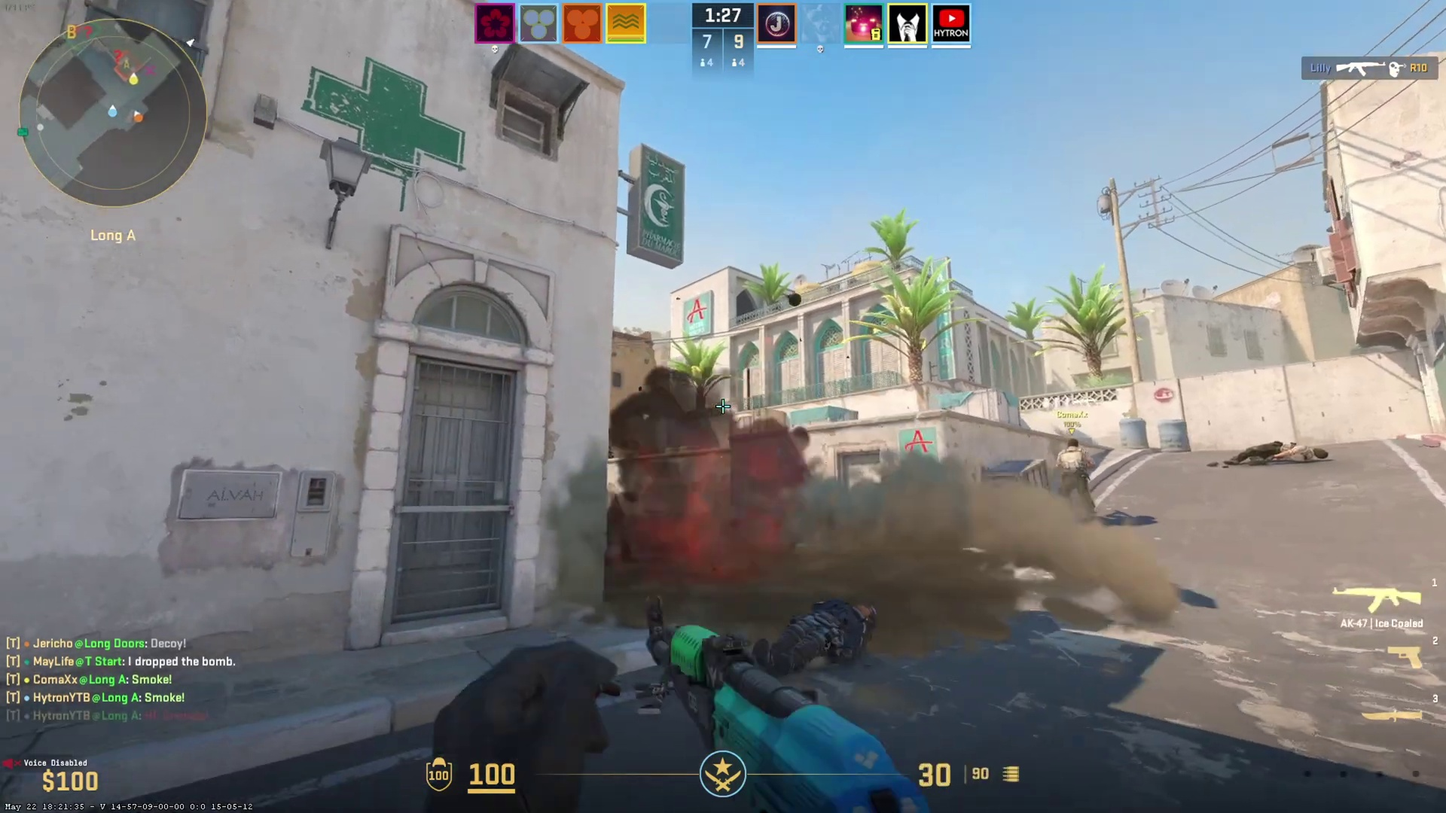Terrorist: (1059, 438, 1092, 516)
